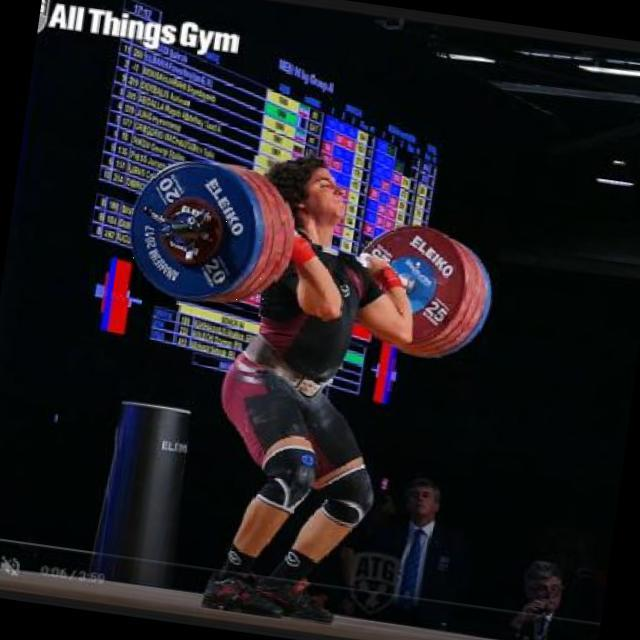barbell: (114, 140, 295, 320)
